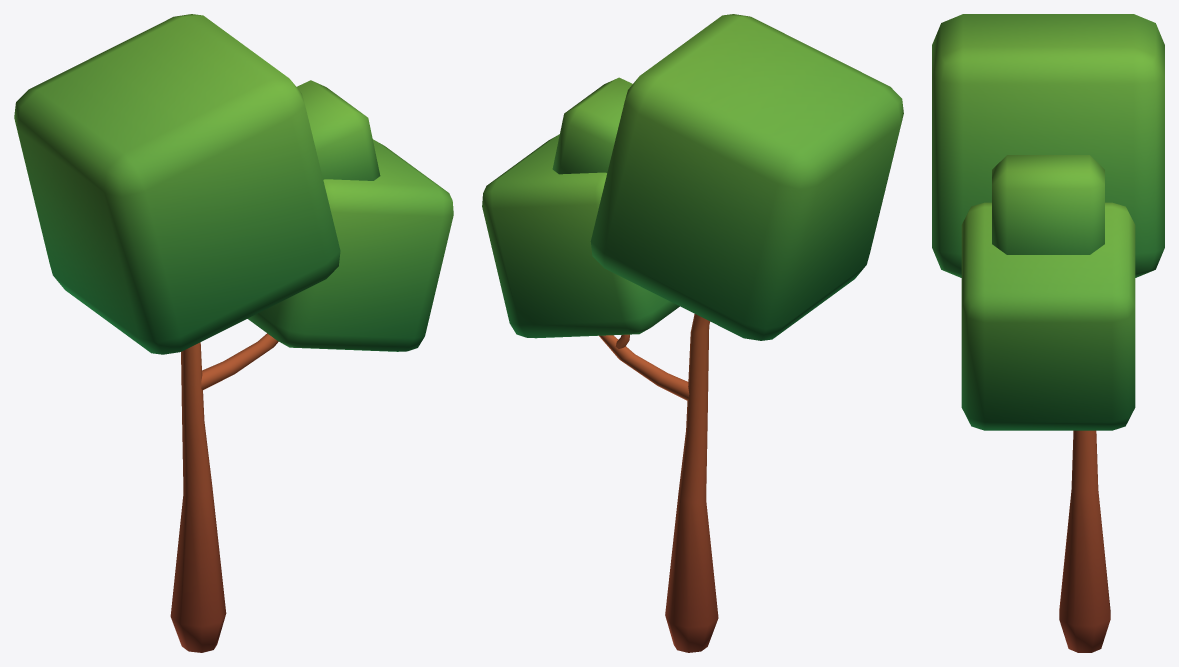
File: Tree_2_B_Color1.glb
The picture shows the model from 3 angles, left to right: view 1: azimuth 30°, elevation 25°; view 2: azimuth 150°, elevation 25°; view 3: azimuth 270°, elevation 25°; orthographic projection. The views are drawn at different scales.
Visible parts, largest first — view 1: Tree_2_B_Color1; view 2: Tree_2_B_Color1; view 3: Tree_2_B_Color1.
Boxes of the visible parts, x1,y1,x2,y2 form: Tree_2_B_Color1: [14, 14, 453, 652]; Tree_2_B_Color1: [482, 14, 903, 652]; Tree_2_B_Color1: [932, 14, 1164, 652].
Size of the model in its own units: 3.7 by 6.04 by 2.1.
1 material, 1 textured.
